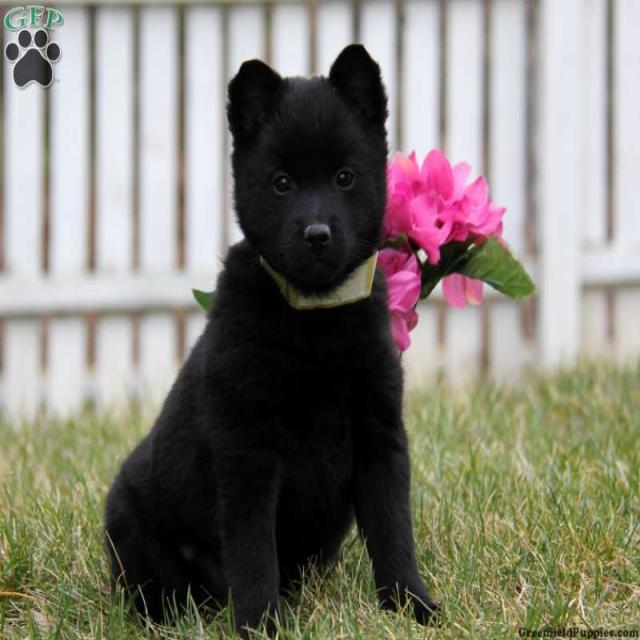dog: (186, 19, 451, 371)
